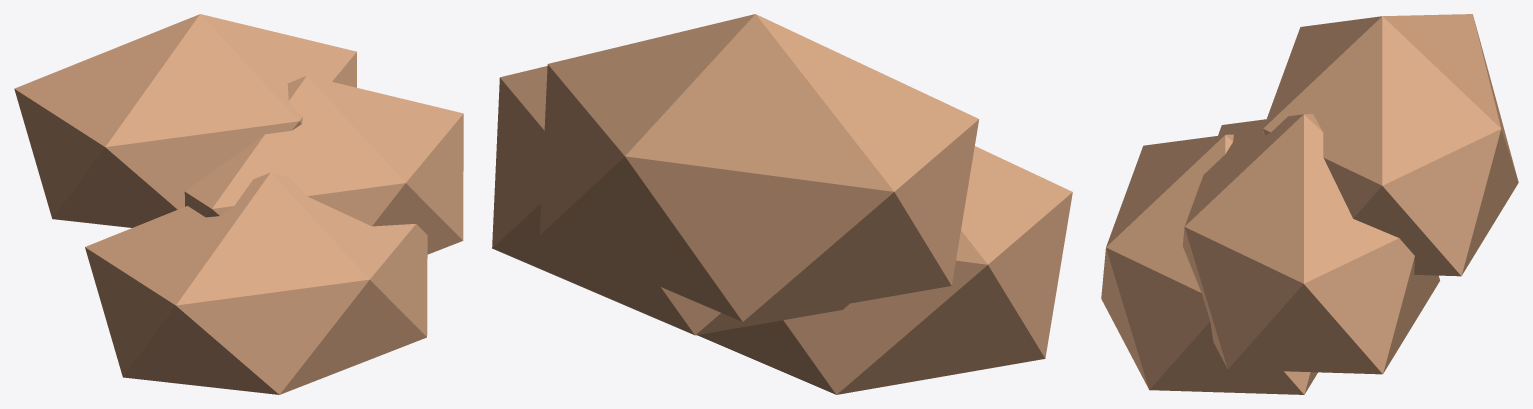
Rendered from item_007_clay_m.glb.
3 renders of one model, left to right at view 1: azimuth 30°, elevation 25°; view 2: azimuth 150°, elevation 25°; view 3: azimuth 270°, elevation 25°, orthographic. The views are drawn at different scales.
Visible parts, largest first — view 1: item_007_clay_m; view 2: item_007_clay_m; view 3: item_007_clay_m.
Boxes of the visible parts, x1,y1,x2,y2 form: item_007_clay_m: (14, 14, 463, 394); item_007_clay_m: (492, 14, 1072, 394); item_007_clay_m: (1101, 14, 1518, 394).
Size of the model in its own units: 0.3691 by 0.3061 by 0.3189.
